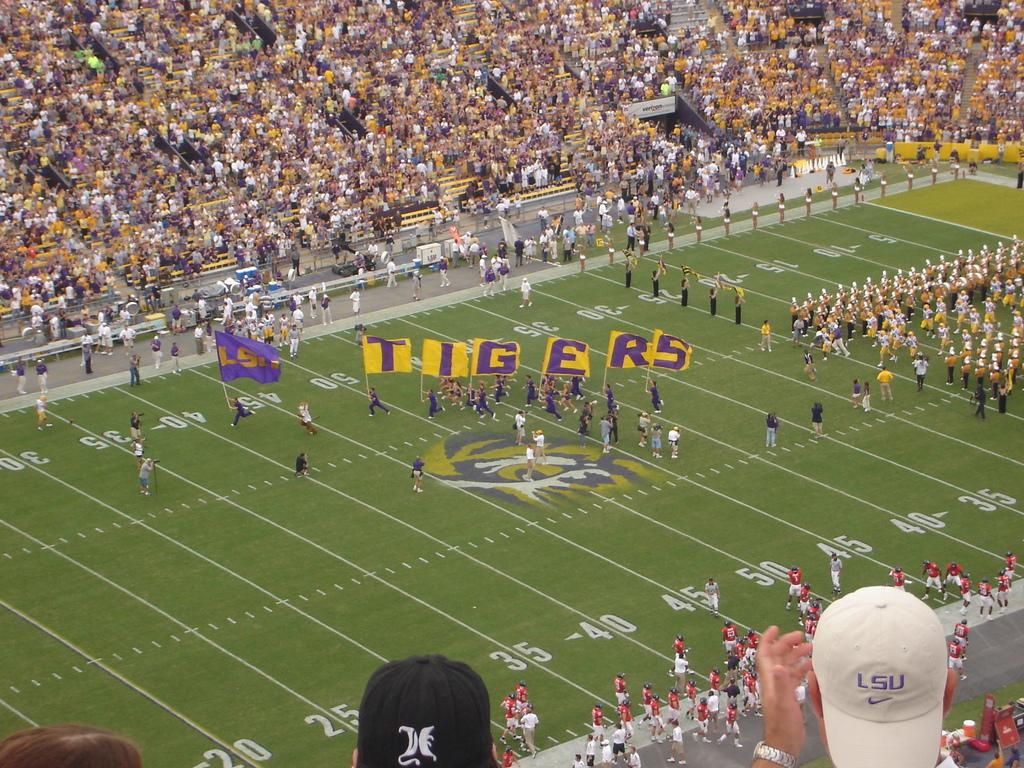Hat: (810, 584, 948, 767)
